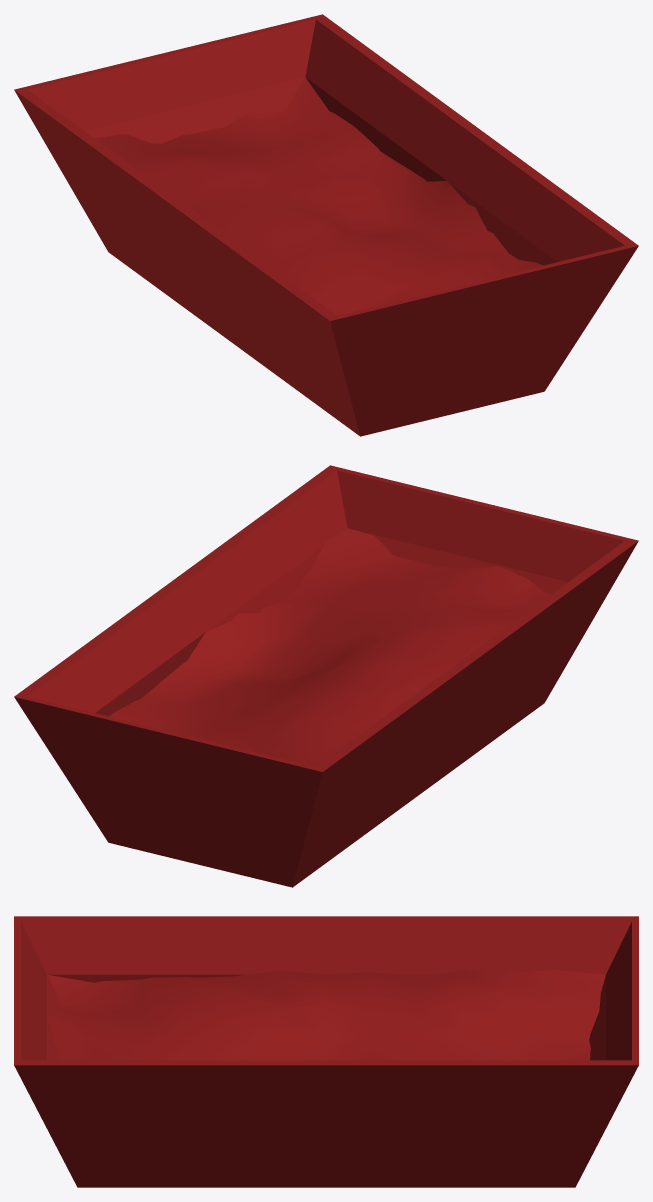
File: trough.FBX
3 renders of one model, top to bottom at view 1: azimuth 30°, elevation 25°; view 2: azimuth 150°, elevation 25°; view 3: azimuth 270°, elevation 25°, orthographic.
Visible parts, largest first — view 1: Box001; view 2: Box001; view 3: Box001.
Boxes of the visible parts, <box> form: Box001: <box>14,14,638,436</box>; Box001: <box>14,465,638,887</box>; Box001: <box>14,916,638,1187</box>.
Bounding box in the file's own units: 50.28 × 24 × 89.2.
